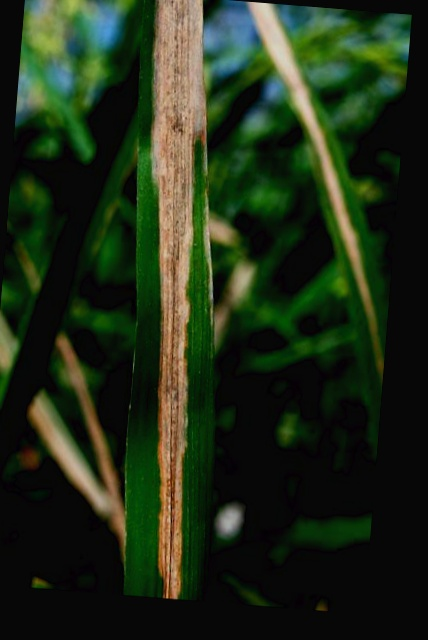Leaf_Blast: (158, 0, 204, 597)
